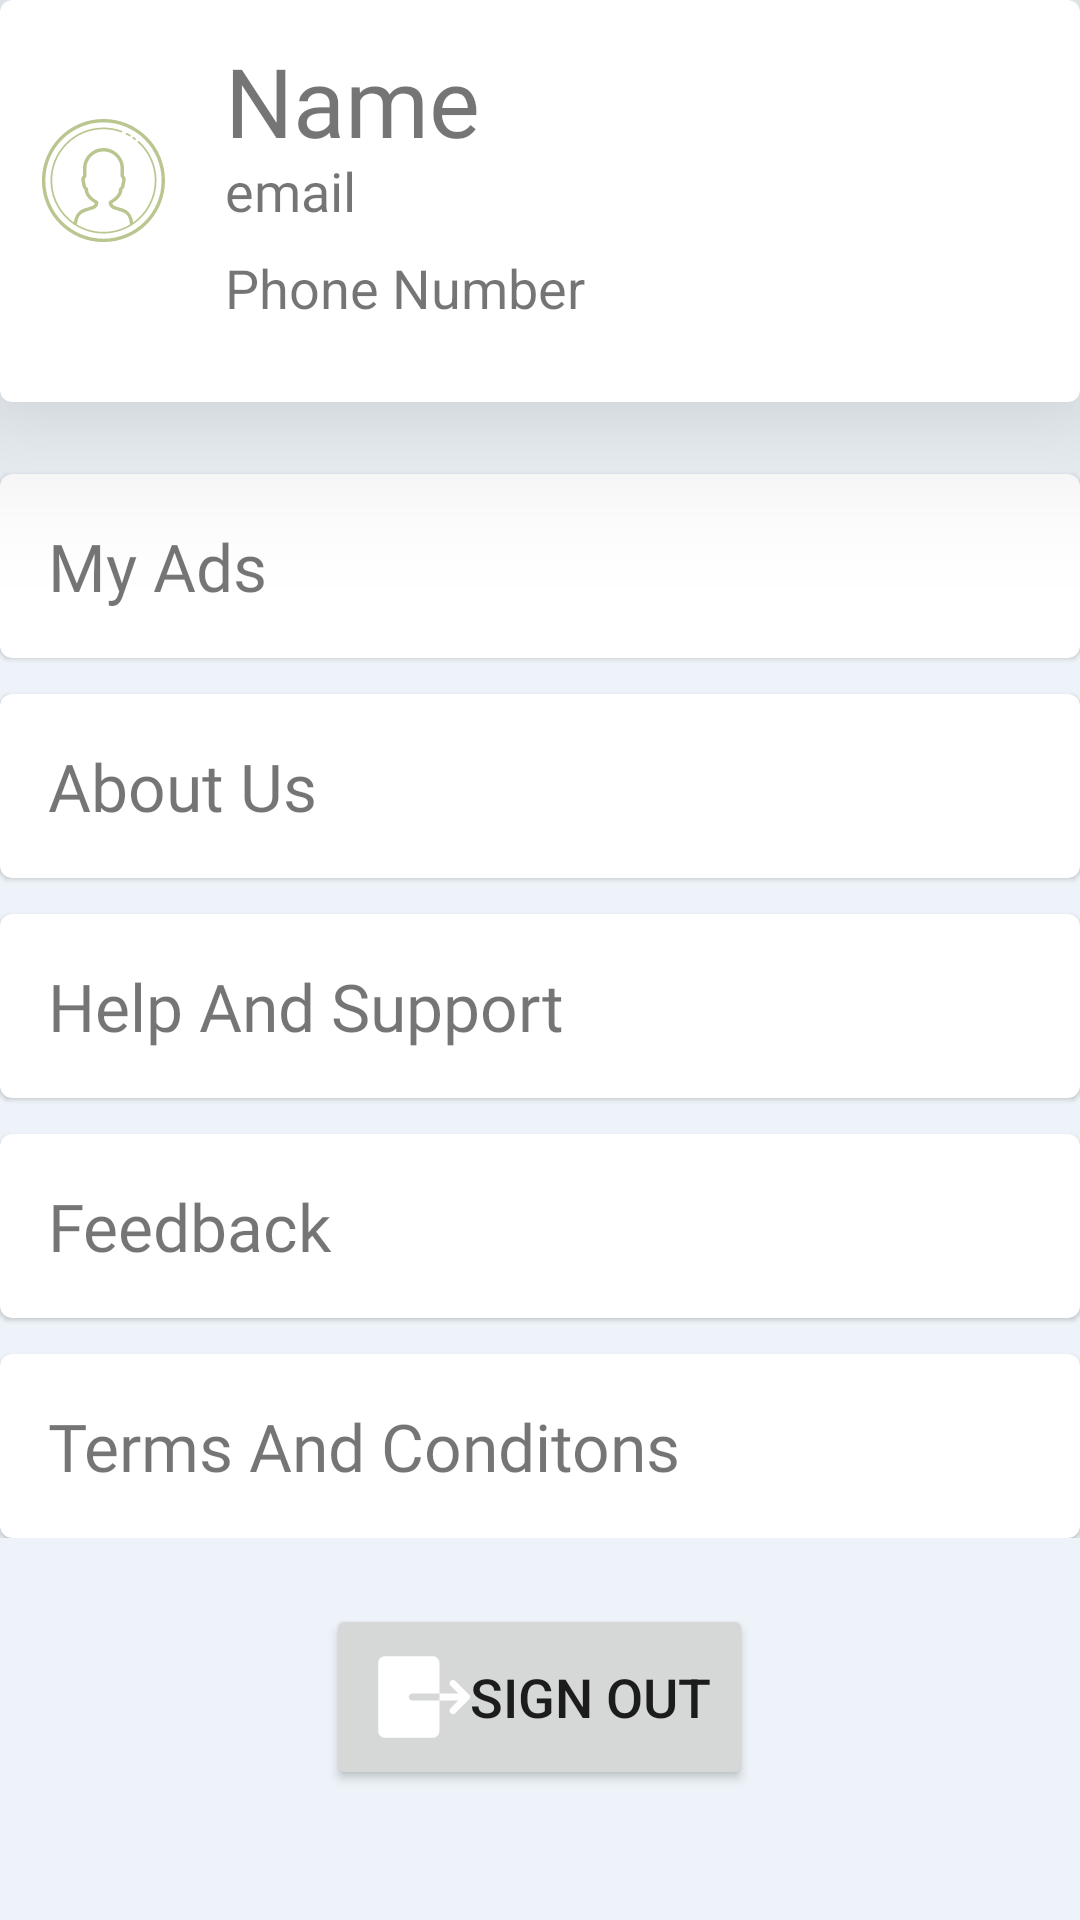

Where icons sit on this 1080 x 1920 app screen, as (x1, y1, x2, y2):
profilepic: (42, 119, 165, 242)
